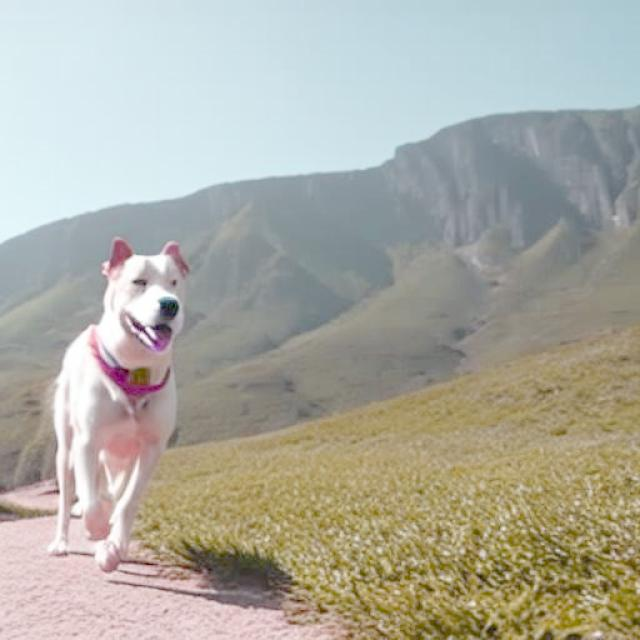Dog: (47, 236, 194, 573)
